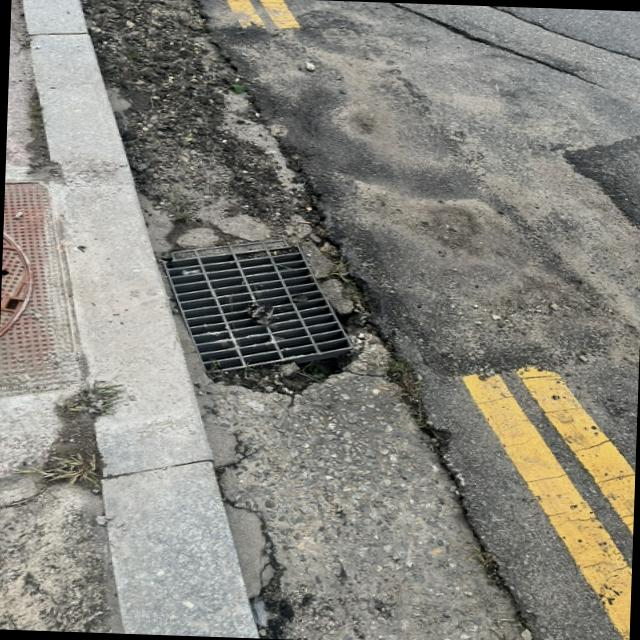drain_area: (165, 253, 350, 371)
drain_full: (160, 238, 350, 375)
